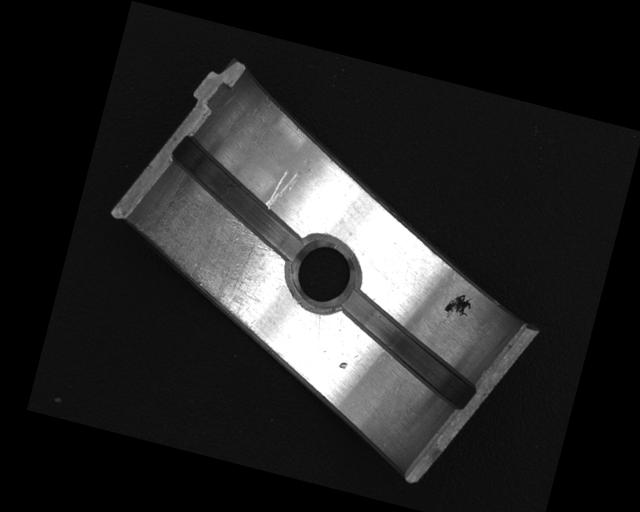blot: (440, 288, 475, 323)
bruise: (338, 360, 349, 370)
gap: (149, 129, 323, 263), (325, 287, 496, 413)
hole: (281, 235, 361, 316)
nick: (263, 163, 301, 214)
scratch: (117, 163, 297, 327)
